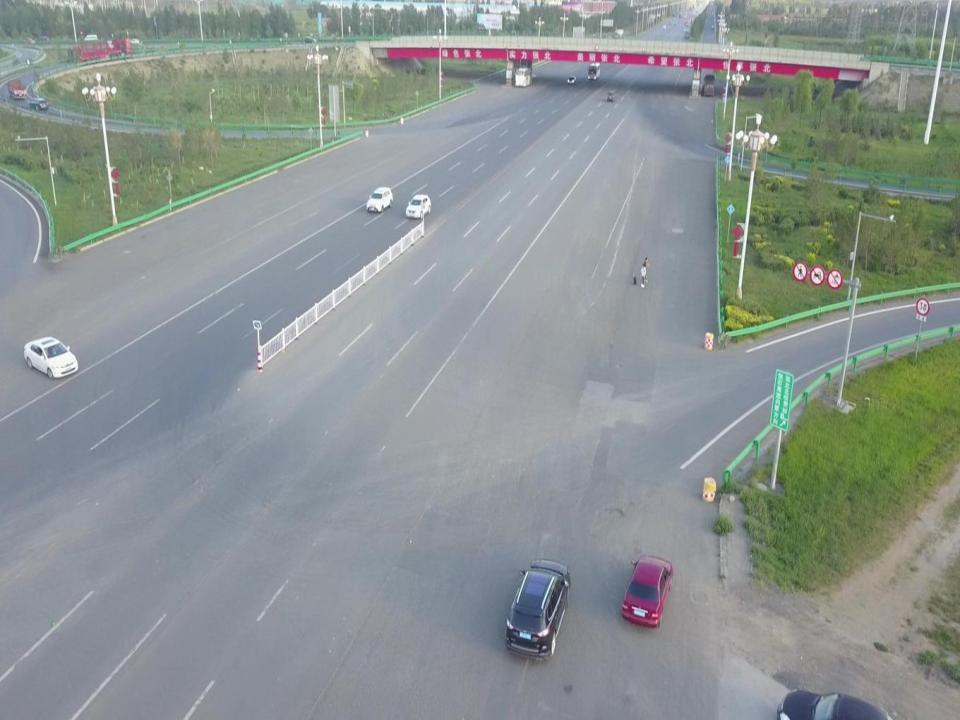bus: (512, 66, 537, 87)
car: (500, 557, 572, 663), (777, 673, 899, 720), (615, 545, 677, 629), (15, 324, 84, 391), (400, 189, 444, 228), (365, 177, 397, 223), (586, 62, 602, 80), (300, 32, 318, 45), (604, 88, 618, 103), (128, 34, 144, 47), (565, 72, 577, 86), (21, 35, 35, 45), (33, 33, 50, 41)
truck: (71, 37, 137, 62), (5, 72, 26, 102)
van: (702, 70, 716, 100), (27, 96, 52, 111), (82, 30, 103, 42)
